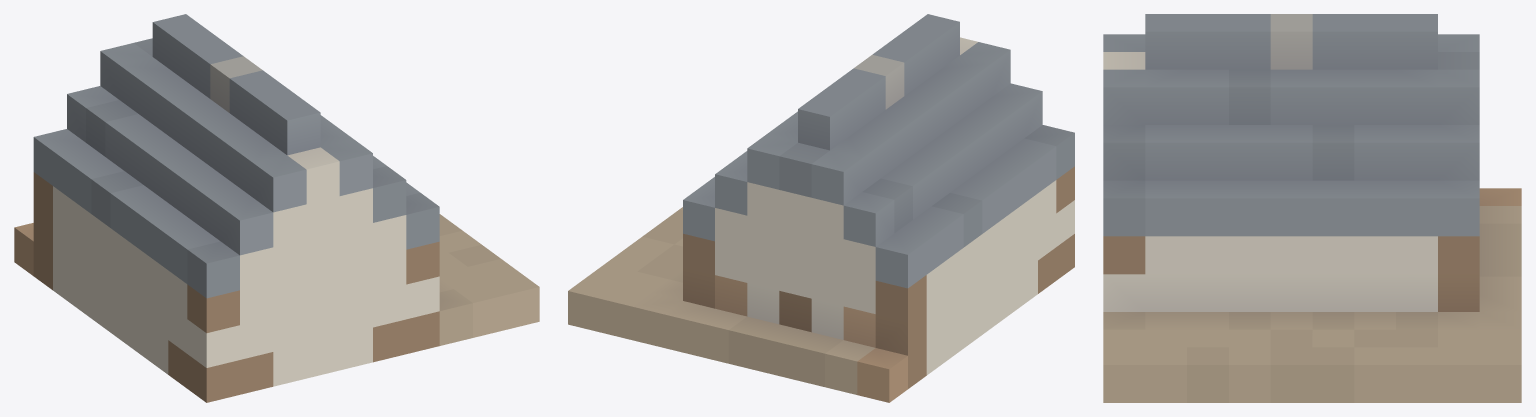
The model's file is dyer_works.lite.glb.
3 views of the same model, side by side, from view 1: azimuth 30°, elevation 25°; view 2: azimuth 150°, elevation 25°; view 3: azimuth 270°, elevation 25° (orthographic). The views are drawn at different scales.
Visible parts, largest first — view 1: dyer_works; view 2: dyer_works; view 3: dyer_works.
Part boxes in pixels (box(x1,y1,x2,y2)): dyer_works: box(14, 14, 539, 402); dyer_works: box(568, 14, 1074, 402); dyer_works: box(1103, 14, 1521, 402).
Bounding box in the file's own units: 5 × 3.5 × 5.
